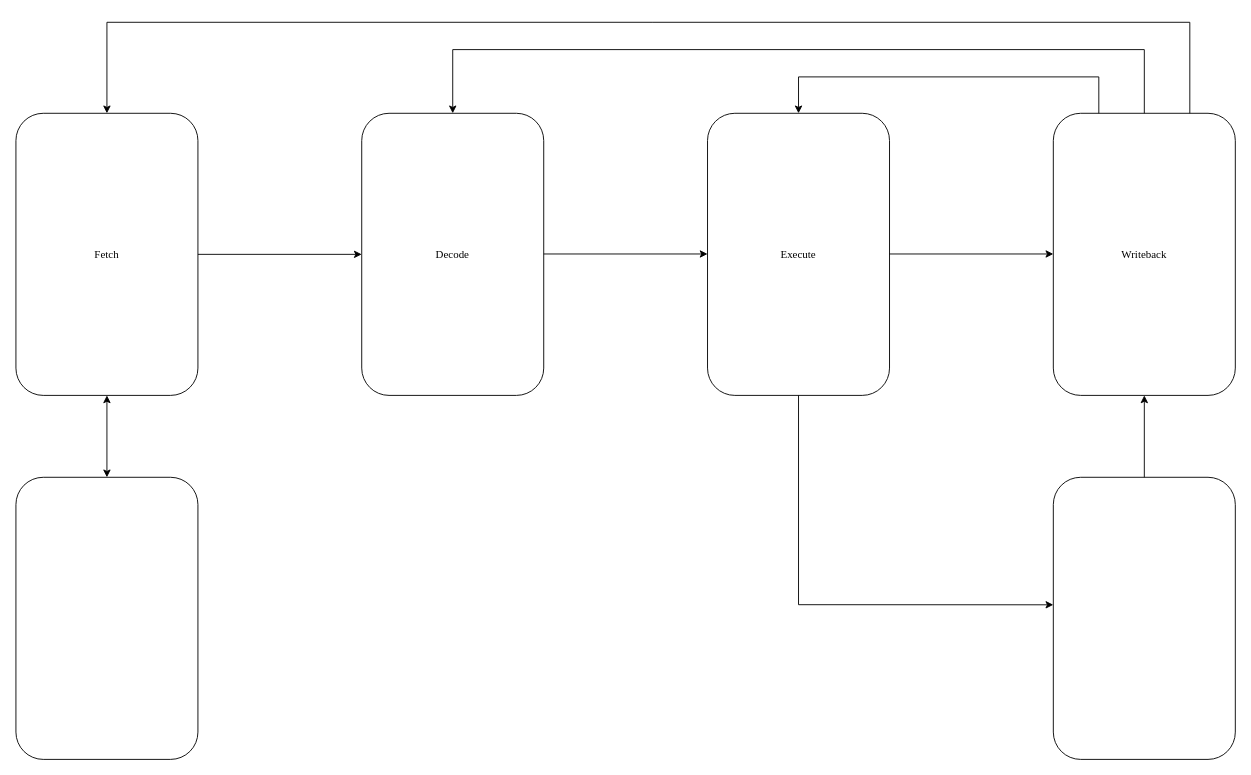
Image size: 1251x775. Some labels were removed from this diagram. The centre of each missing label's shape, as x and y in pixels:
"Data Memory" goes at (1143,617).
"Instruction Memory" goes at (106,617).
